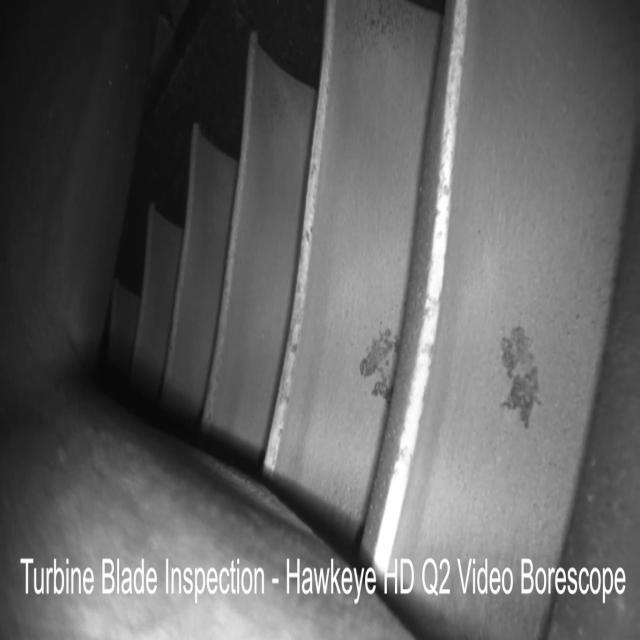burn: (495, 318, 540, 432), (360, 326, 399, 376), (372, 369, 393, 406)
turbine_blade: (377, 3, 639, 565), (271, 0, 440, 533), (203, 40, 313, 458), (164, 132, 237, 426)
